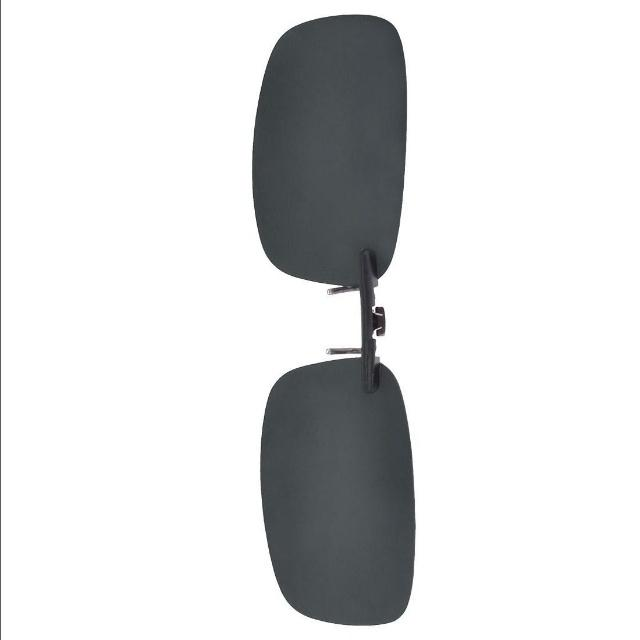Sunglasses: (223, 0, 457, 624)
